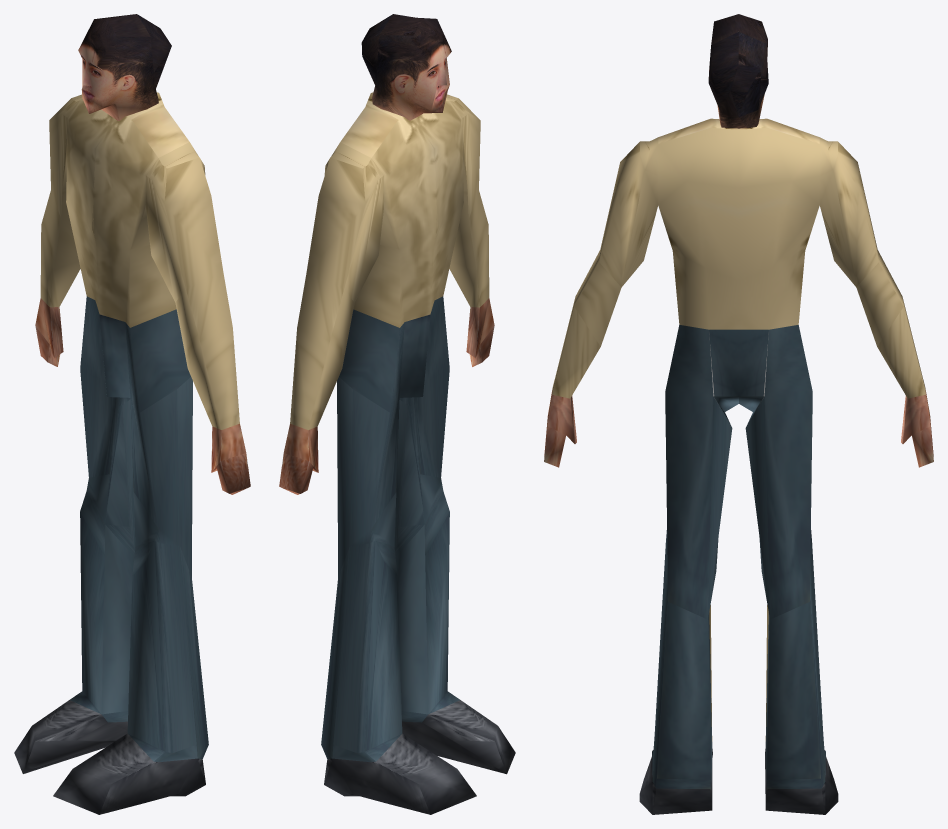
The model's file is man7.fbx.
The picture shows the model from 3 angles, left to right: view 1: azimuth 30°, elevation 25°; view 2: azimuth 150°, elevation 25°; view 3: azimuth 270°, elevation 25°; orthographic projection. The views are drawn at different scales.
Parts seen in each view (by area): view 1: man7; view 2: man7; view 3: man7.
Part boxes in pixels (bbox=[...]): man7: bbox=[14, 14, 250, 814]; man7: bbox=[279, 14, 515, 814]; man7: bbox=[544, 14, 933, 814].
Bounding box in the file's own units: 34.73 × 186 × 84.77.
2 materials, 2 textured.
